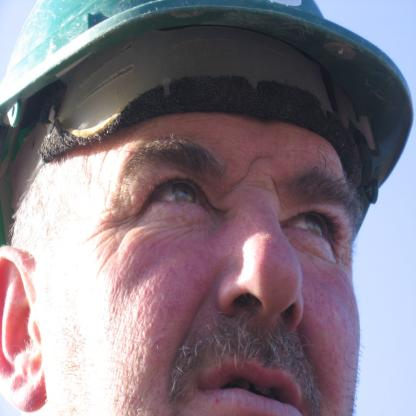Helmet: (0, 0, 415, 243)
